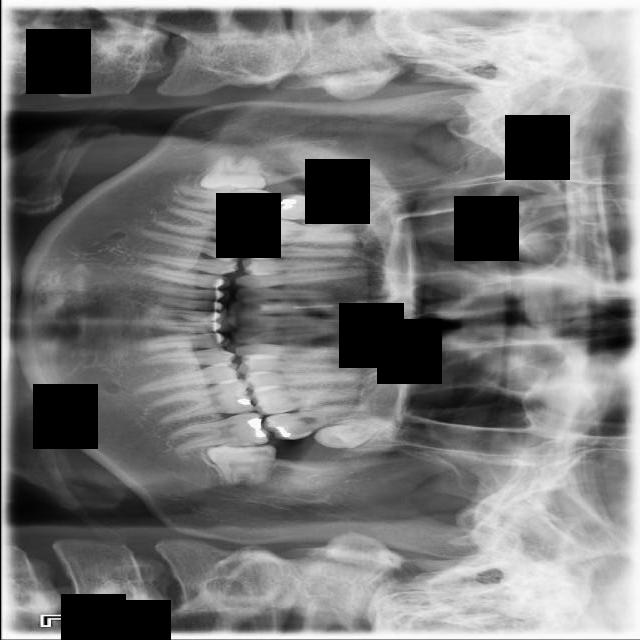52: (225, 409, 269, 452), (216, 209, 258, 251), (211, 377, 254, 418), (254, 218, 303, 247), (261, 412, 309, 440), (268, 195, 318, 220), (232, 188, 272, 218)
73: (259, 303, 334, 314), (20, 622, 30, 631)
BioHorizons Implant: (261, 398, 375, 445)
BioLife Implant: (311, 414, 397, 455)
Biomet 3i Implant: (205, 445, 275, 486)
Blue Sky Bio Implant: (166, 411, 269, 456)
Caries: (267, 193, 375, 227)
Implant: (173, 185, 275, 217)
Keystone Dental Implant: (199, 154, 265, 193)
